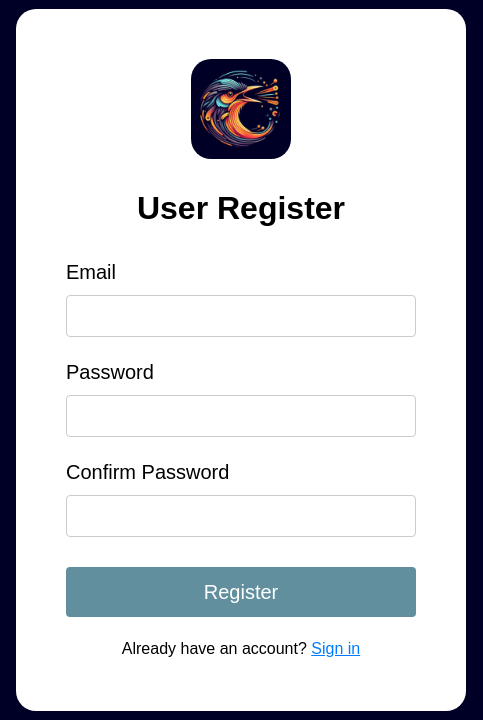
Test: Register Listener Page › shows network error if fetch throws
Type "test@example.com" into the field labelled "Email" at (241, 316), box x1=66 y1=295 x2=416 y2=337
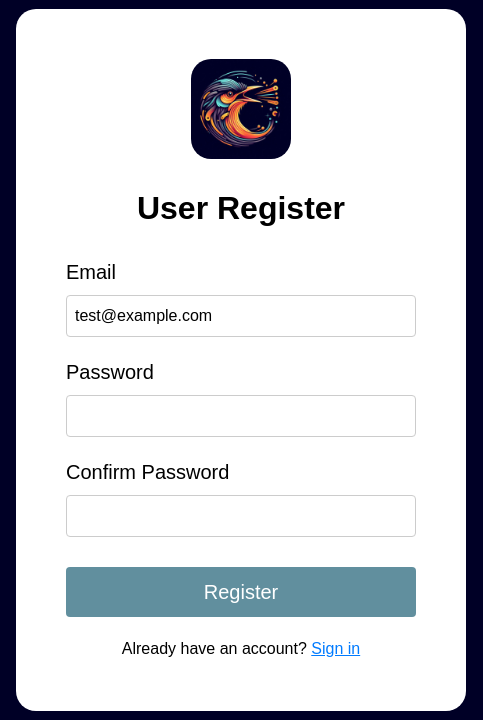
Type "password123" into the password field labelled "Password" at (241, 416), box x1=66 y1=395 x2=416 y2=437
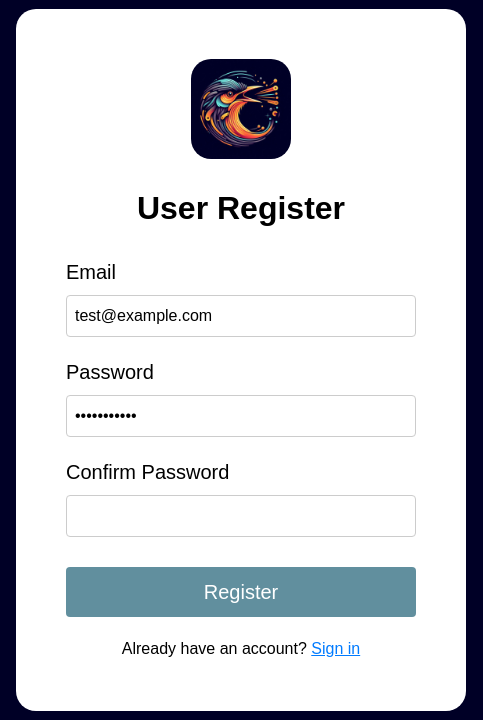
Type "password123" into the password field labelled "Confirm Password" at (241, 516), box x1=66 y1=495 x2=416 y2=537
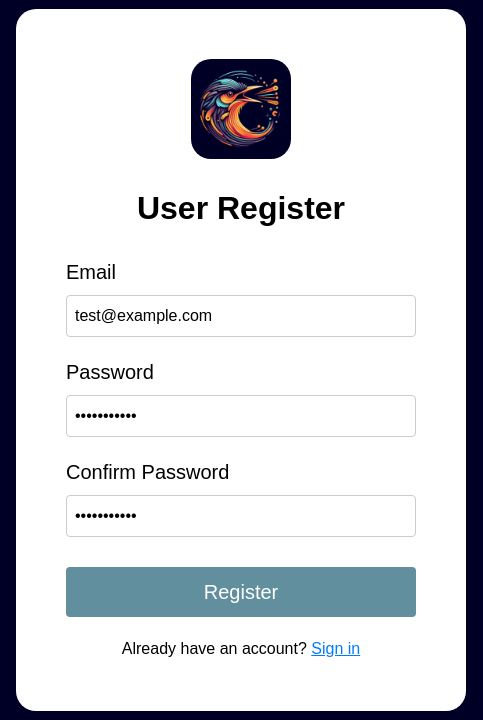
Click the button "Register" at (241, 592), box x1=66 y1=567 x2=416 y2=617
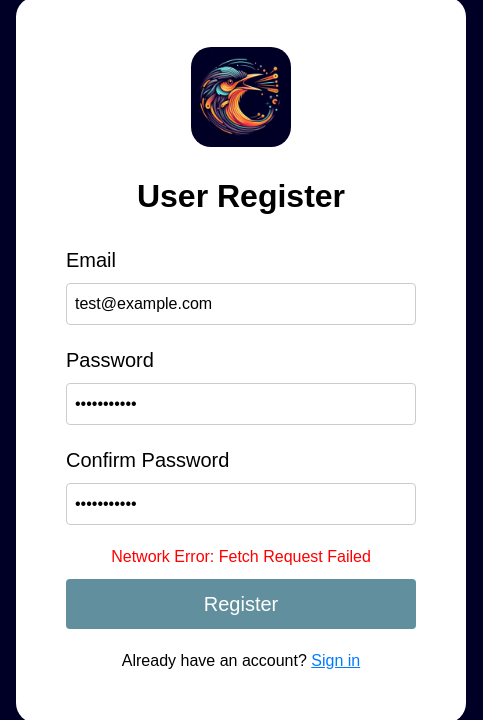
Now the text "Network Error: Fetch Request Failed" is shown, box x1=111 y1=548 x2=371 y2=565
